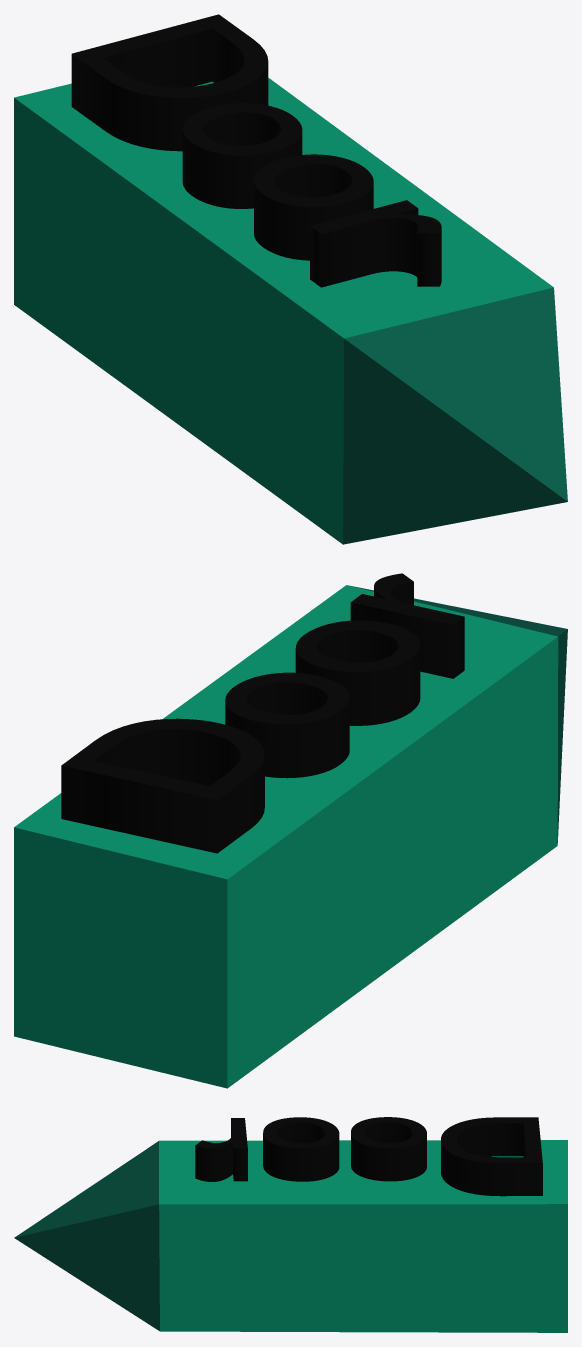
The model's file is DoorArrow.fbx.
The picture shows the model from 3 angles, top to bottom: view 1: azimuth 30°, elevation 25°; view 2: azimuth 150°, elevation 25°; view 3: azimuth 270°, elevation 25°; orthographic projection. The views are drawn at different scales.
Visible parts, largest first — view 1: Cube, Cube.001, Text; view 2: Cube, Text, Cube.001; view 3: Cube, Text, Cube.001.
Boxes of the visible parts, <box> form: Cube: <box>14,78,553,544</box>; Cube.001: <box>343,287,567,544</box>; Text: <box>71,14,441,287</box>; Cube: <box>14,585,558,1088</box>; Text: <box>61,573,464,853</box>; Cube.001: <box>348,585,567,842</box>; Cube: <box>159,1140,567,1332</box>; Text: <box>195,1117,542,1196</box>; Cube.001: <box>14,1141,159,1331</box>.
Bounding box in the file's own units: 97.29 × 114 × 355.
